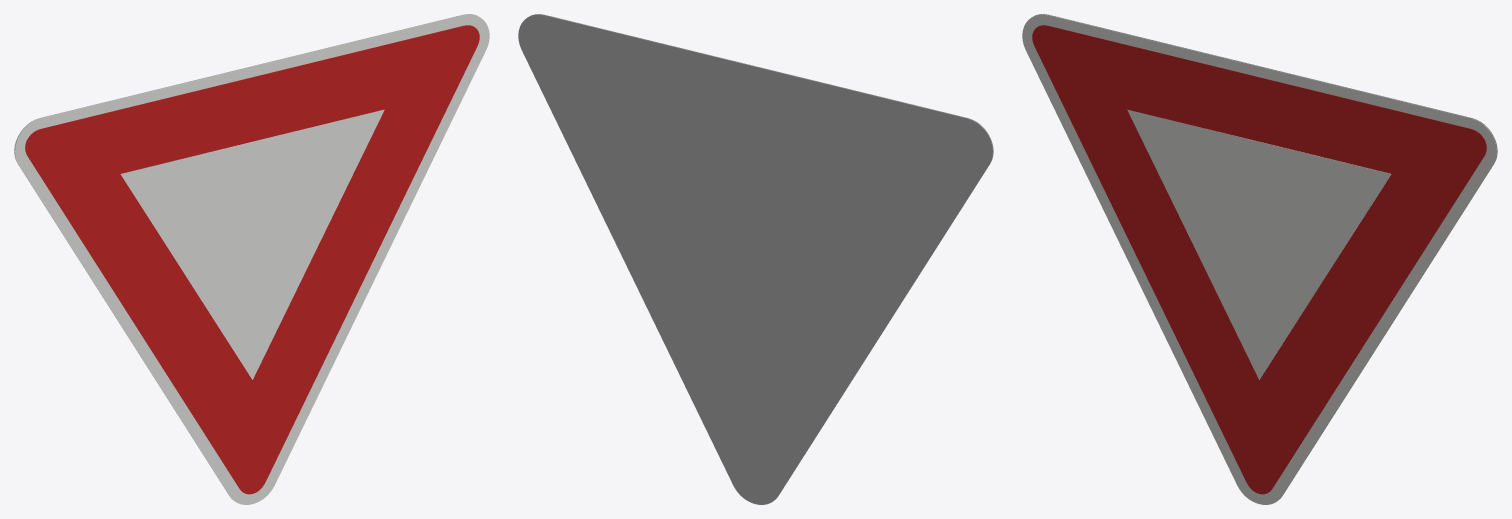
3 views of the same model, side by side, from view 1: azimuth 30°, elevation 25°; view 2: azimuth 150°, elevation 25°; view 3: azimuth 330°, elevation 25° (orthographic).
Parts seen in each view (by area): view 1: AB3a_p01, AB3a_p02, AB3a_p00, AB3a_dos; view 2: AB3a_dos, AB3a_p00; view 3: AB3a_p01, AB3a_p02, AB3a_p00, AB3a_dos.
Boxes of the visible parts, x1,y1,x2,y2 form: AB3a_p01: [25, 25, 479, 494]; AB3a_p02: [120, 109, 384, 379]; AB3a_p00: [15, 14, 489, 504]; AB3a_dos: [14, 14, 476, 499]; AB3a_dos: [518, 14, 992, 504]; AB3a_p00: [531, 14, 993, 499]; AB3a_p01: [1032, 25, 1486, 494]; AB3a_p02: [1127, 109, 1391, 379]; AB3a_p00: [1022, 14, 1496, 504]; AB3a_dos: [1035, 14, 1497, 499].
Size of the model in its own units: 0.7 by 0.6163 by 0.0027.
